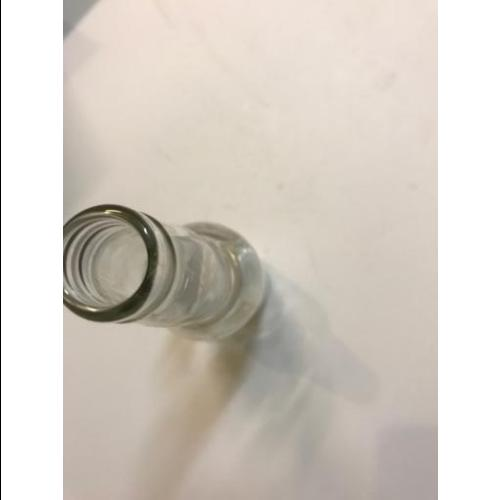glass: (63, 205, 256, 338)
